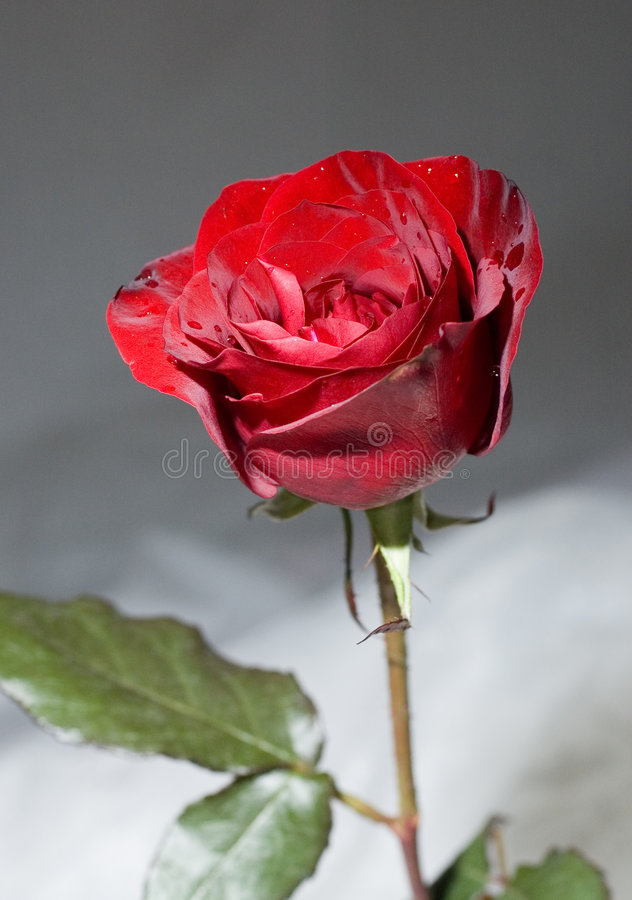RedRose: (132, 149, 531, 517)
